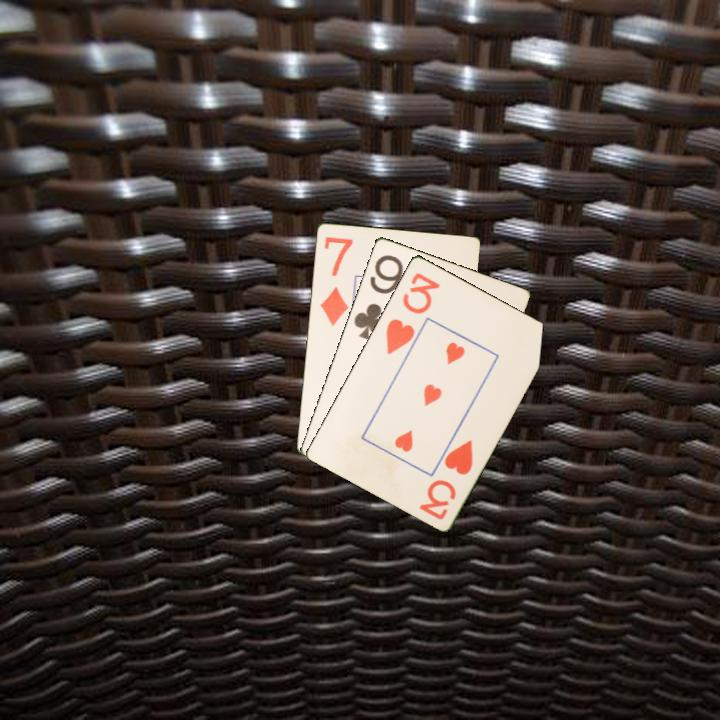3h: (382, 269, 443, 357), (415, 436, 476, 523)
7d: (316, 232, 355, 329)
9c: (350, 251, 406, 343)
